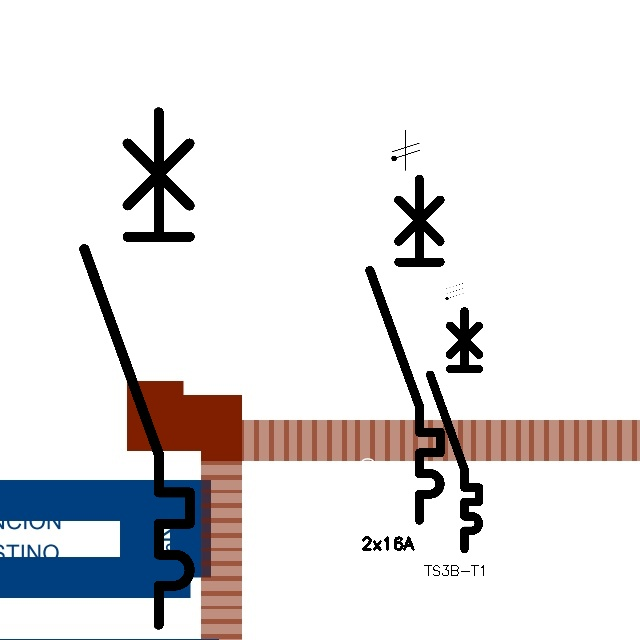interruptor_termomagnetico: (71, 99, 203, 638), (361, 170, 449, 528), (424, 305, 485, 554)
